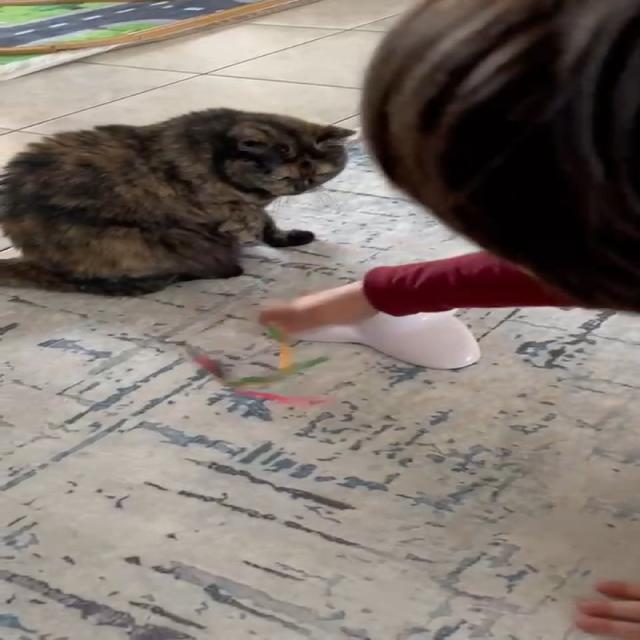authorized: (0, 106, 357, 296)
